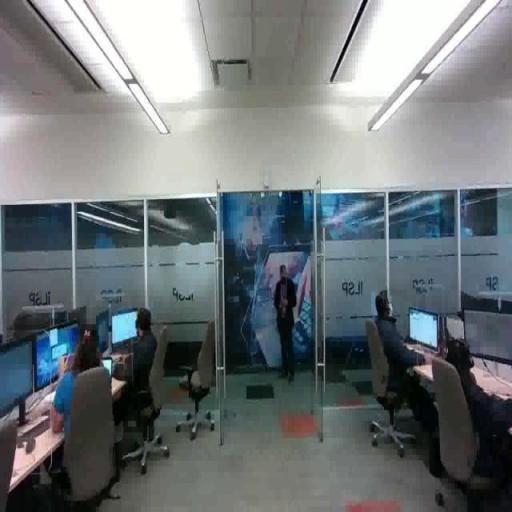person: (438, 338, 512, 492), (51, 320, 118, 487), (366, 287, 436, 422), (102, 308, 165, 457), (273, 264, 298, 389)
